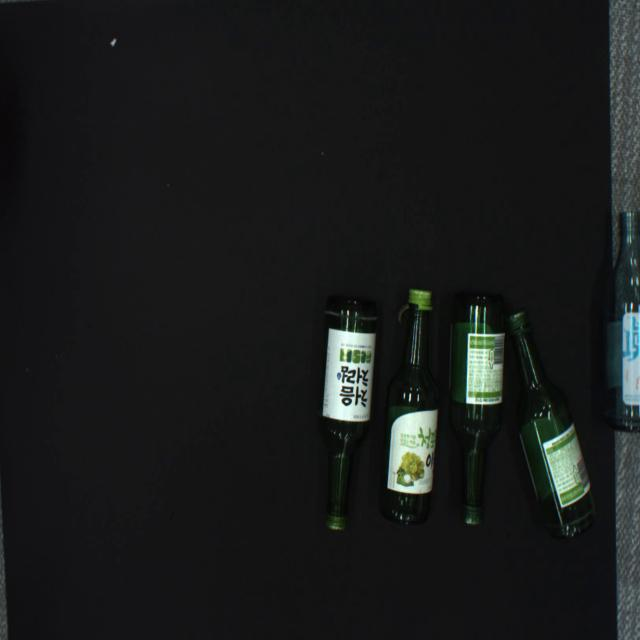soju-bottle: (507, 309, 596, 538), (316, 296, 379, 531), (379, 288, 440, 525), (449, 294, 506, 526), (601, 211, 640, 432)
